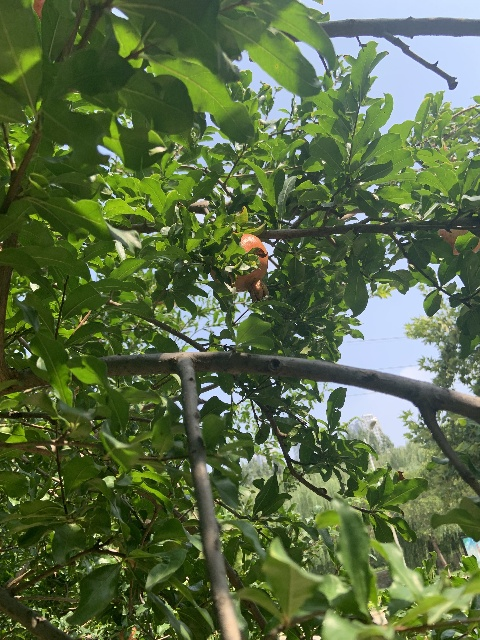ripe: (210, 233, 268, 302), (438, 228, 480, 255)
